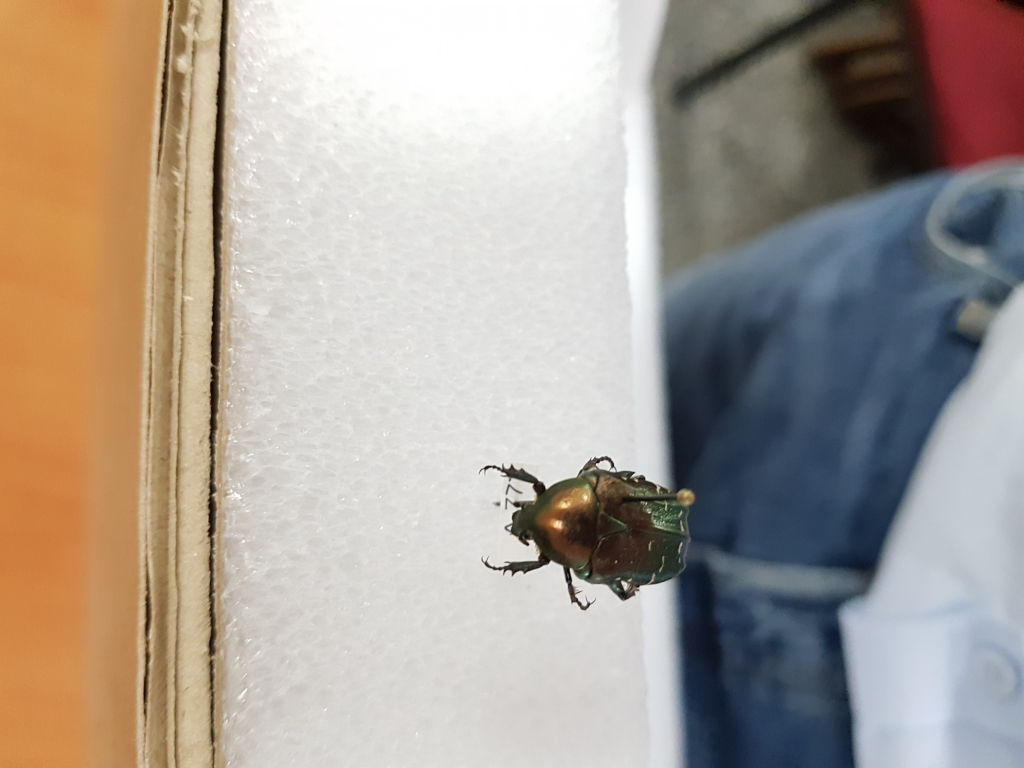Cetonia_aurata: (474, 444, 692, 615)
